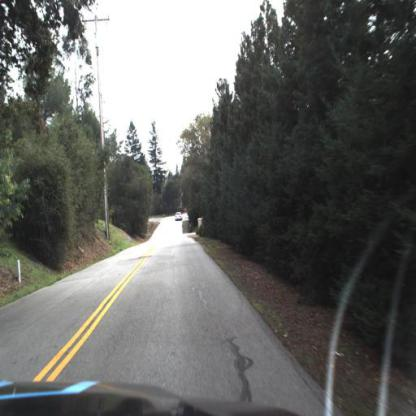car: (175, 206, 185, 226), (176, 207, 186, 224)
